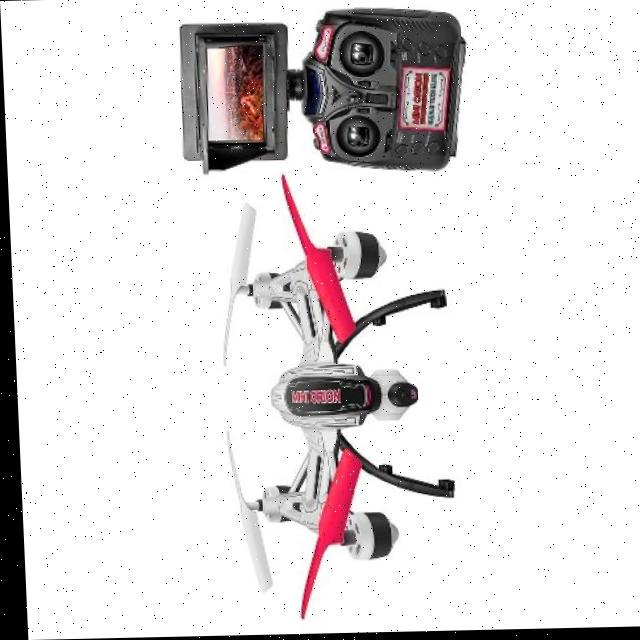drone: (197, 170, 478, 603)
